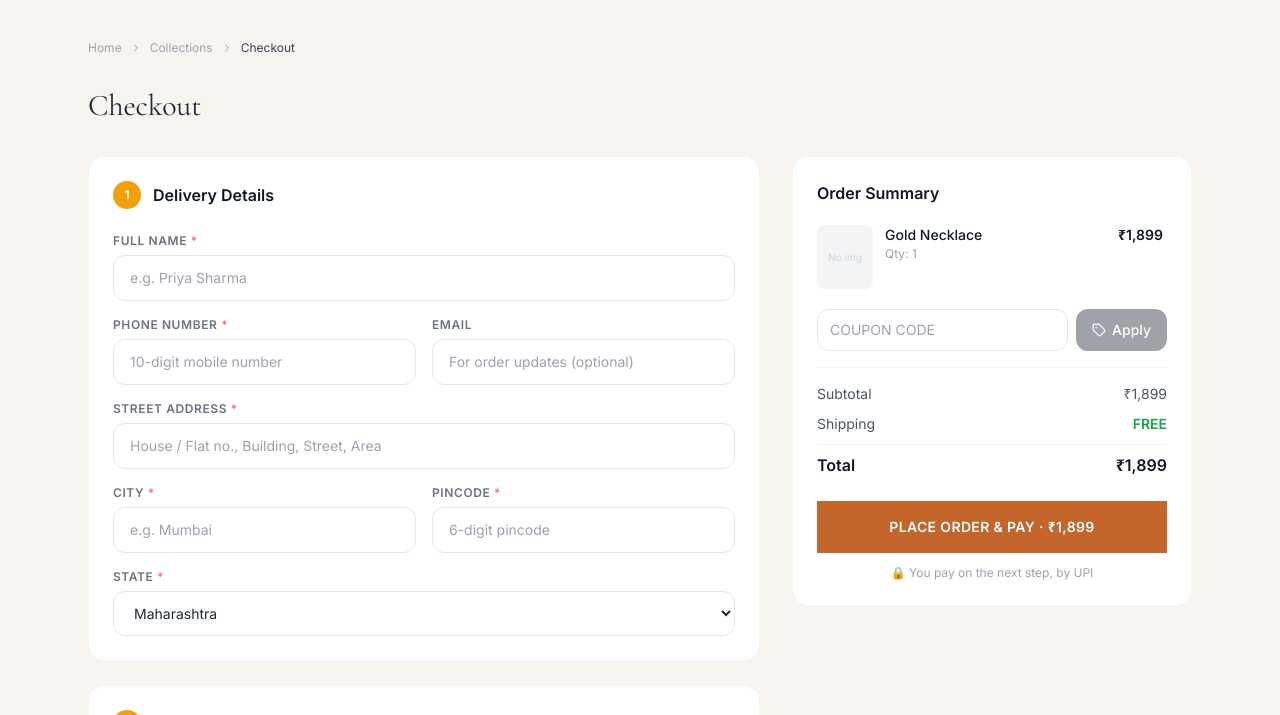
Checkout › a phone number pasted with +91 keeps the last 10 digits
This screenshot has width=1280, height=715.
Step 1. Type "+91 98765 43210" into the field named "phone" → (264, 362), box [113,339,416,385]
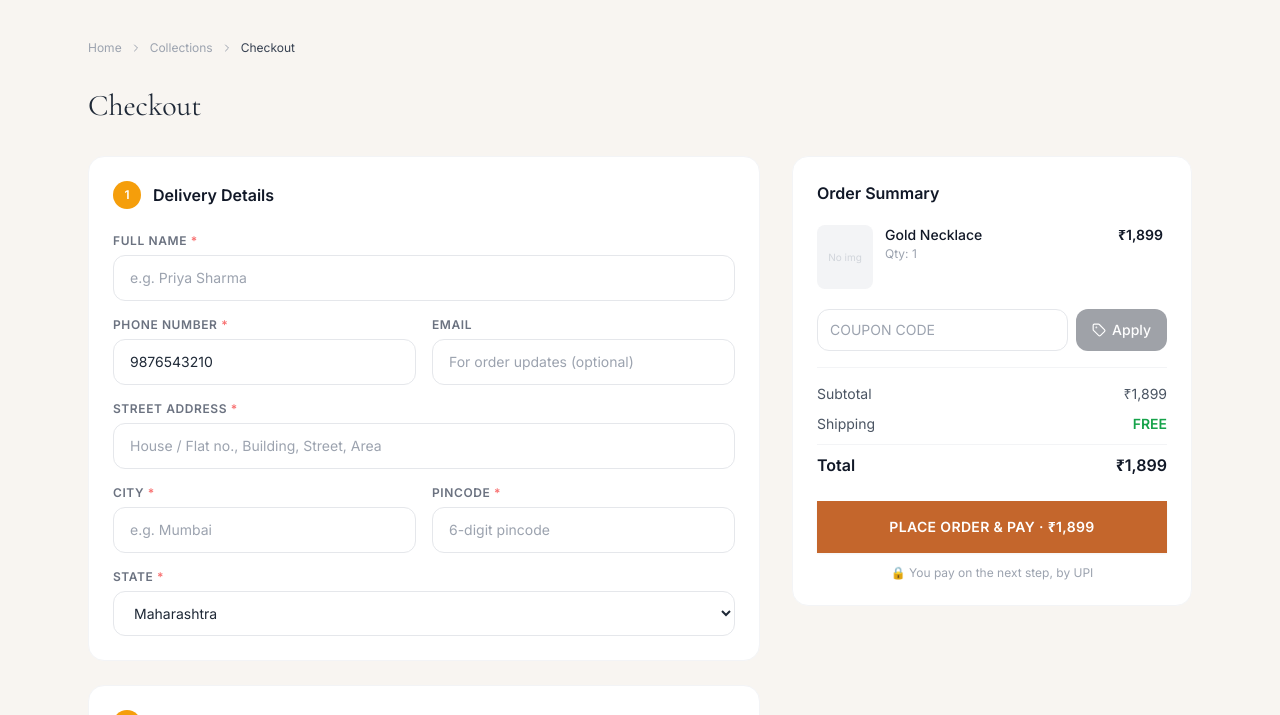
Expected: the field named "phone" holds "9876543210", [113,339,416,385]
